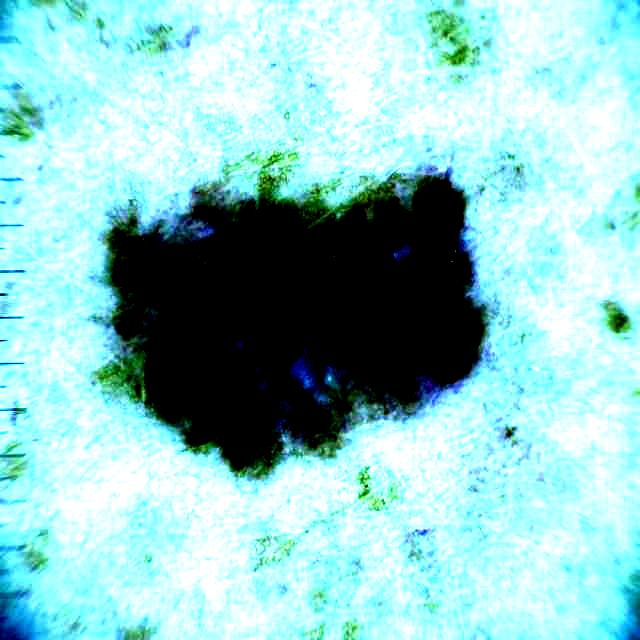MEL: (109, 165, 484, 471)
